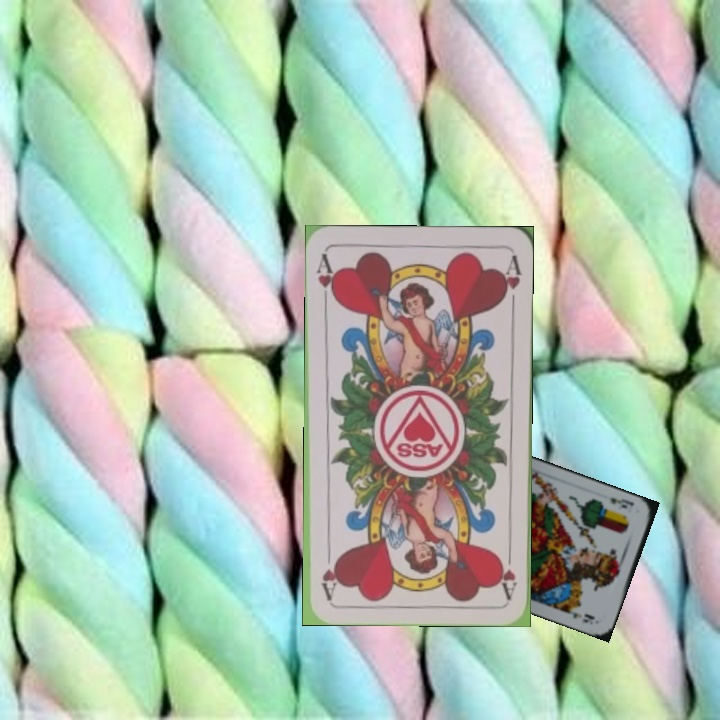EK: (606, 493, 636, 511)
HA: (313, 250, 339, 309), (495, 541, 519, 600)
